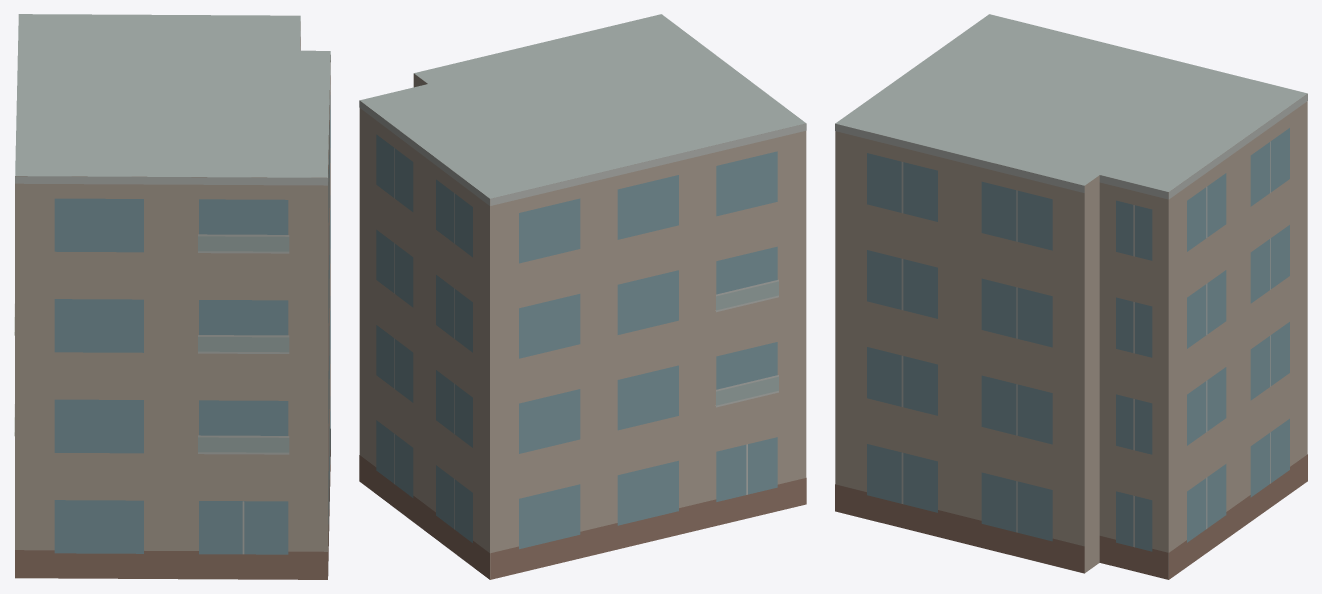
File: survey-upis-32802445.glb
3 views of the same model, side by side, from view 1: azimuth 30°, elevation 25°; view 2: azimuth 150°, elevation 25°; view 3: azimuth 270°, elevation 25° (orthographic). The views are drawn at different scales.
Parts seen in each view (by area): view 1: survey-upis-32802445.tmp; view 2: survey-upis-32802445.tmp; view 3: survey-upis-32802445.tmp.
Boxes of the visible parts, left/top/right/bottom form: survey-upis-32802445.tmp: left=14, top=14, right=330, bottom=579; survey-upis-32802445.tmp: left=359, top=14, right=806, bottom=579; survey-upis-32802445.tmp: left=835, top=14, right=1307, bottom=579.
Bounding box in the file's own units: 12.52 × 12.7 × 14.04.
